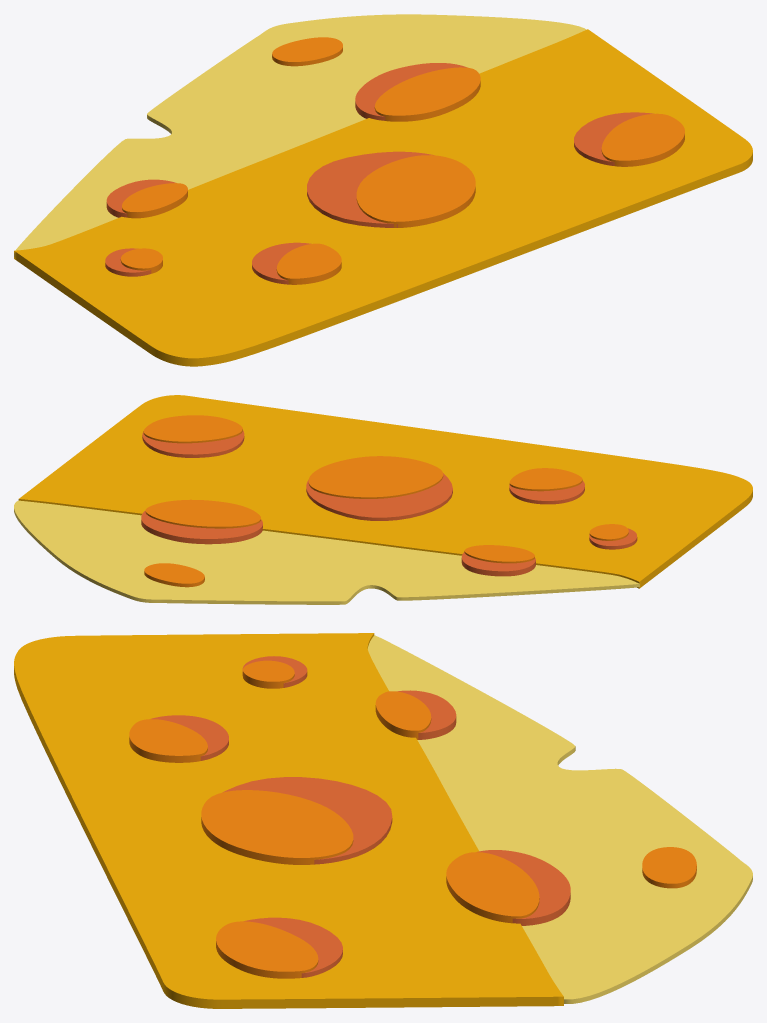
The model's file is emoji_u1f9c0.glb.
The picture shows the model from 3 angles, top to bottom: view 1: azimuth 30°, elevation 25°; view 2: azimuth 150°, elevation 25°; view 3: azimuth 270°, elevation 25°; orthographic projection. The views are drawn at different scales.
Visible parts, largest first — view 1: emoji_u1f9c0; view 2: emoji_u1f9c0; view 3: emoji_u1f9c0.
Part boxes in pixels (<box>): emoji_u1f9c0: <box>14,14,752,366</box>; emoji_u1f9c0: <box>14,395,752,604</box>; emoji_u1f9c0: <box>14,633,752,1008</box>.
Size of the model in its own units: 0.0337 by 0.001 by 0.0287.
